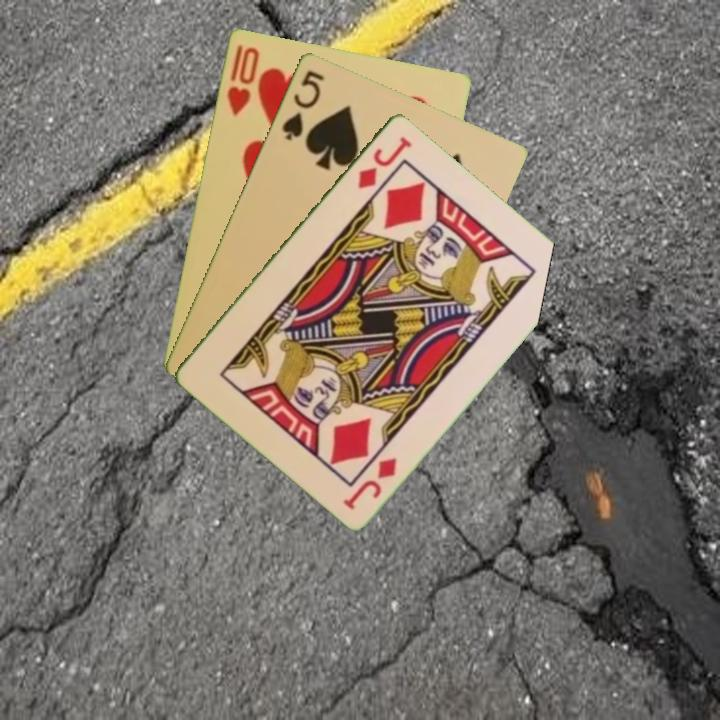10h: (223, 43, 262, 119)
5s: (278, 66, 327, 143)
Jd: (354, 132, 415, 192), (339, 453, 400, 512)
